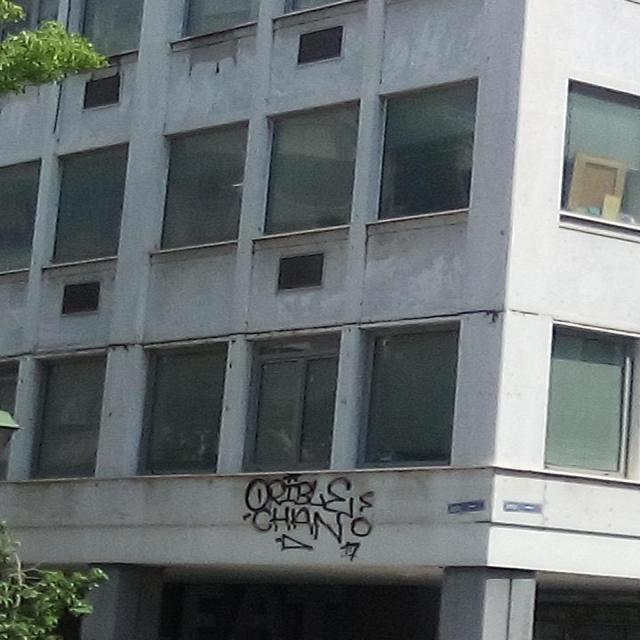nonspitting: (244, 474, 375, 562)
